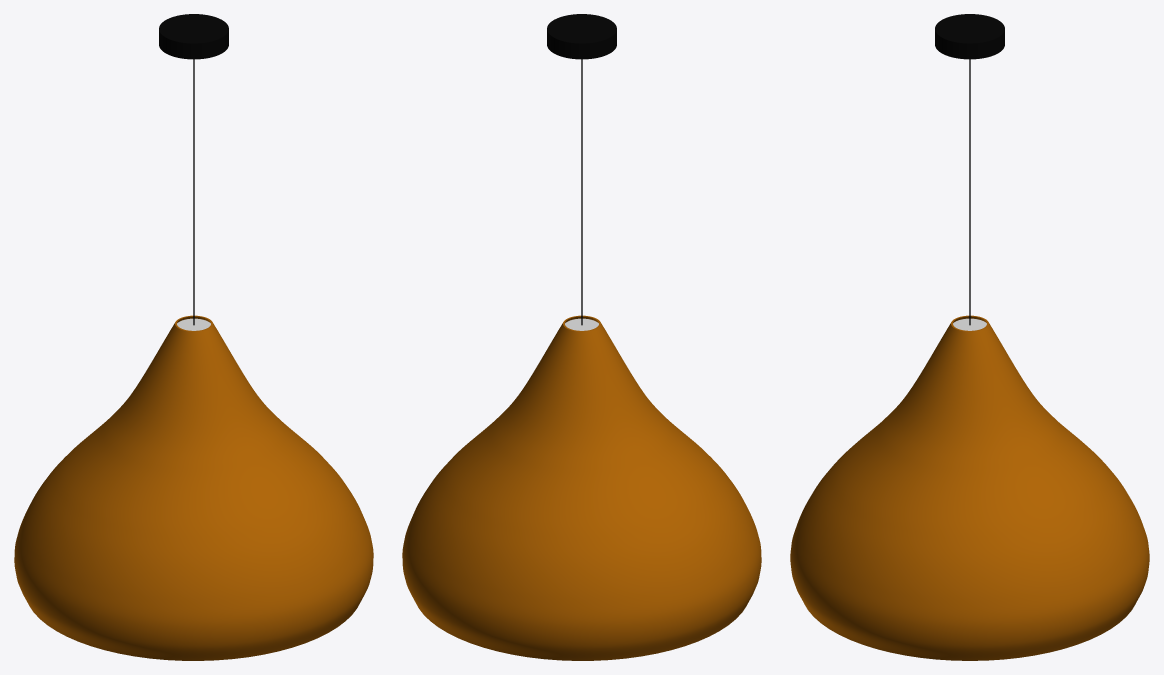
File: pendant_lamp__1b528c6ab04e.glb
3 views of the same model, side by side, from view 1: azimuth 30°, elevation 25°; view 2: azimuth 150°, elevation 25°; view 3: azimuth 270°, elevation 25° (orthographic).
Parts seen in each view (by area): view 1: shade, ceiling_cap, suspension_cord; view 2: shade, ceiling_cap, suspension_cord; view 3: shade, ceiling_cap, suspension_cord.
Boxes of the visible parts, <box> form: shade: <box>14,315,373,660</box>; ceiling_cap: <box>159,14,228,59</box>; suspension_cord: <box>193,59,194,325</box>; shade: <box>402,315,761,660</box>; ceiling_cap: <box>547,14,616,59</box>; suspension_cord: <box>581,59,582,325</box>; shade: <box>790,315,1149,660</box>; ceiling_cap: <box>935,14,1004,59</box>; suspension_cord: <box>969,59,970,325</box>.
Bounding box in the file's own units: 0.2463 × 0.449 × 0.2463.
